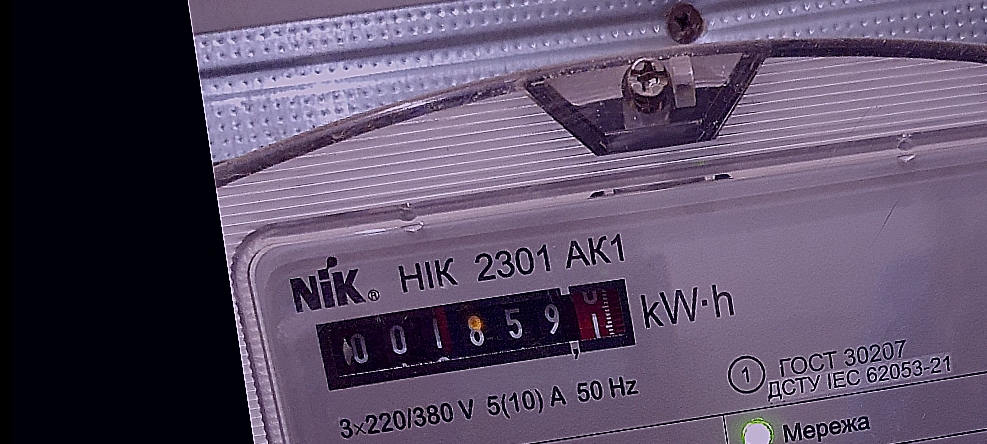0: (347, 328, 372, 366), (386, 320, 410, 356)
1: (429, 314, 445, 351), (587, 308, 604, 340)
5: (502, 303, 527, 341)
8: (464, 310, 488, 348)
9: (540, 299, 564, 336)
screen: (303, 263, 648, 402)
